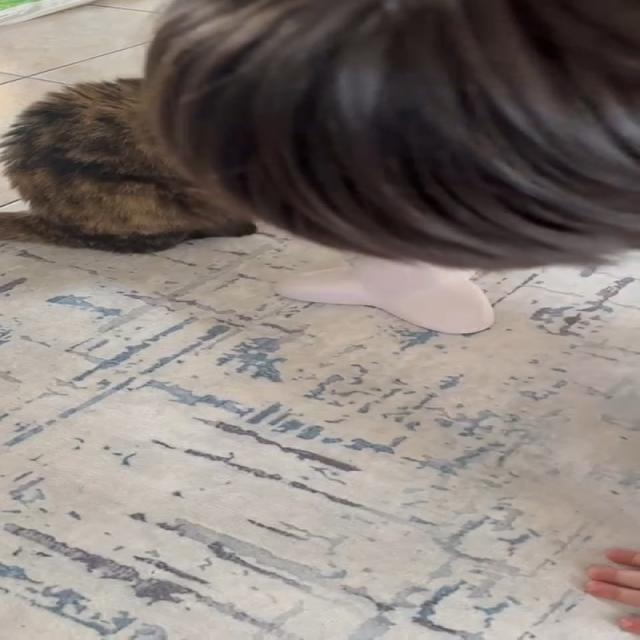authorized: (0, 75, 257, 254)
